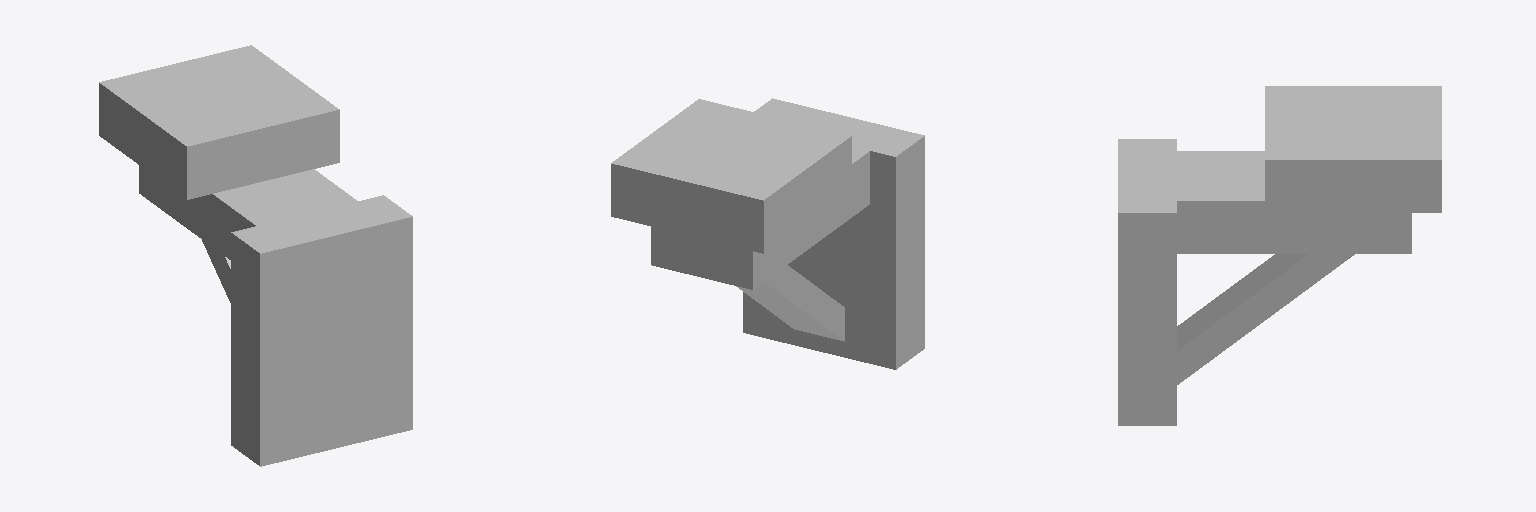
Rendered from wallmount.obj.
The picture shows the model from 3 angles: view 1: azimuth 30°, elevation 25°; view 2: azimuth 150°, elevation 25°; view 3: azimuth 270°, elevation 25°; orthographic projection.
Parts seen in each view (by area): view 1: normal; view 2: normal; view 3: normal.
Part boxes in pixels (x1,y1,x2,y2): normal: (99,45,412,466); normal: (611,98,924,369); normal: (1118,86,1441,425).
Size of the model in its own units: 0.375 by 0.625 by 0.6875.